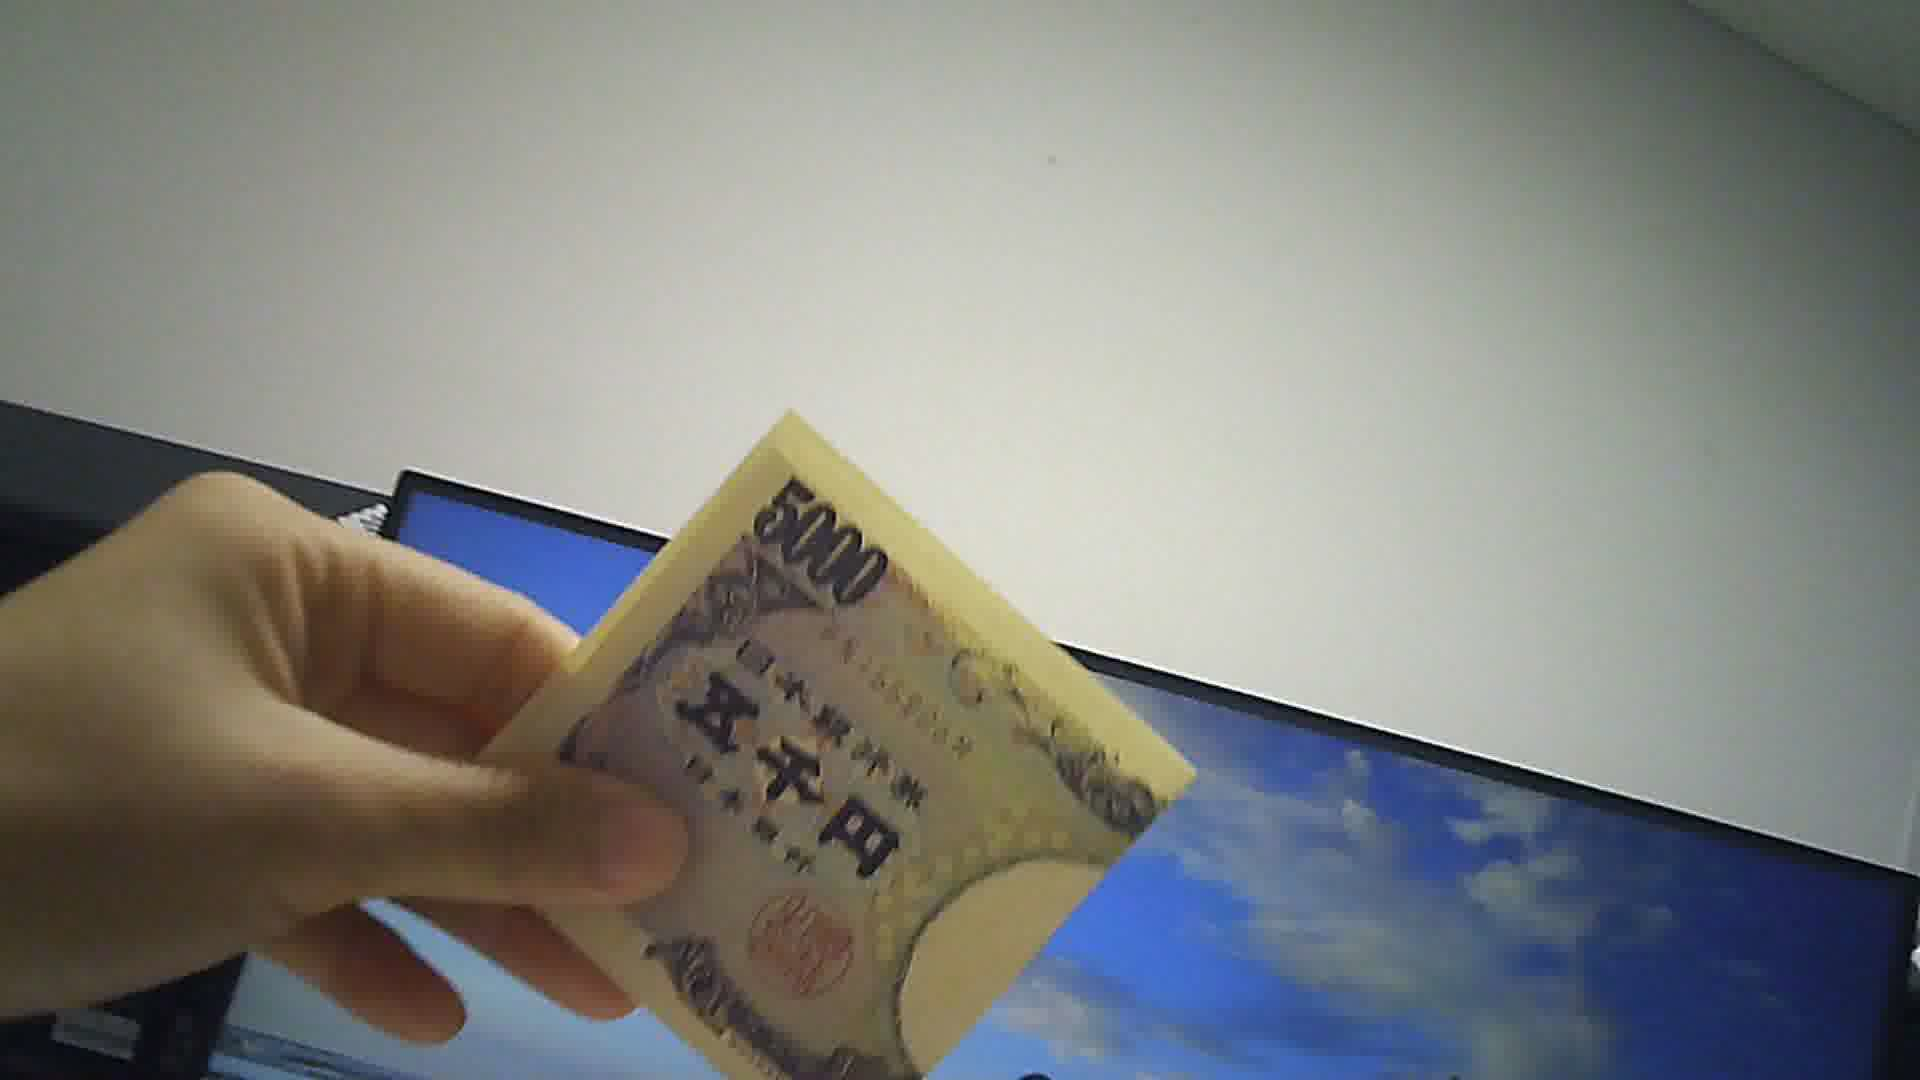5,000 Yen: (460, 406, 1178, 1079)
